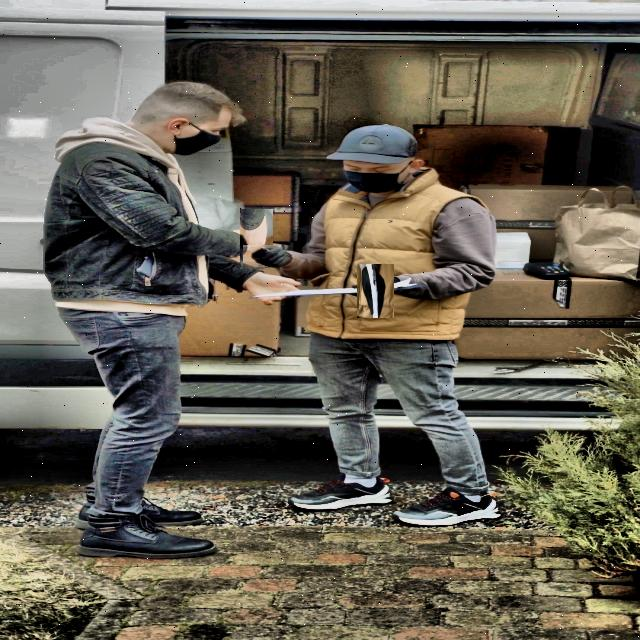gloved: (232, 215, 280, 262), (246, 270, 302, 309), (352, 268, 398, 314), (243, 245, 322, 270)
